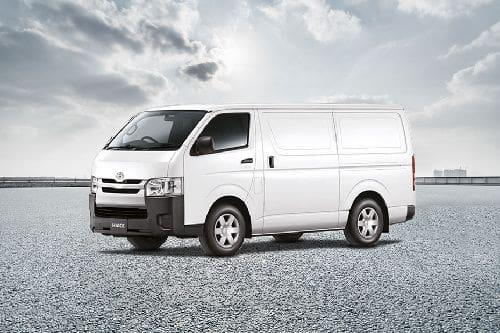van: (88, 102, 416, 257)
